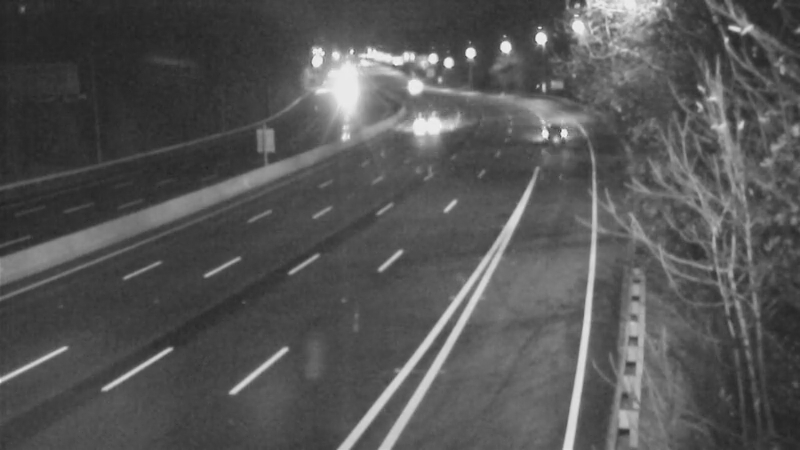vehicle: (386, 59, 436, 109), (523, 107, 573, 157), (394, 100, 444, 150)
